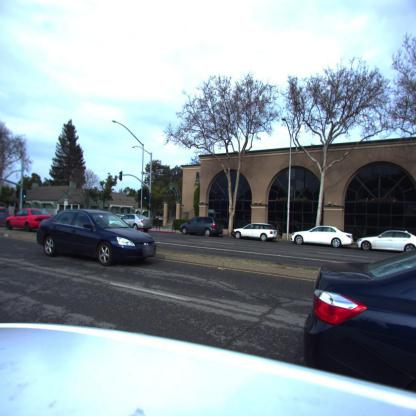car: (303, 243, 416, 414), (36, 210, 158, 266), (290, 226, 354, 249), (358, 229, 415, 254), (6, 208, 56, 232), (180, 216, 221, 237), (233, 224, 279, 242), (120, 214, 152, 230), (0, 207, 12, 229)
traffic light: (120, 172, 124, 182)
